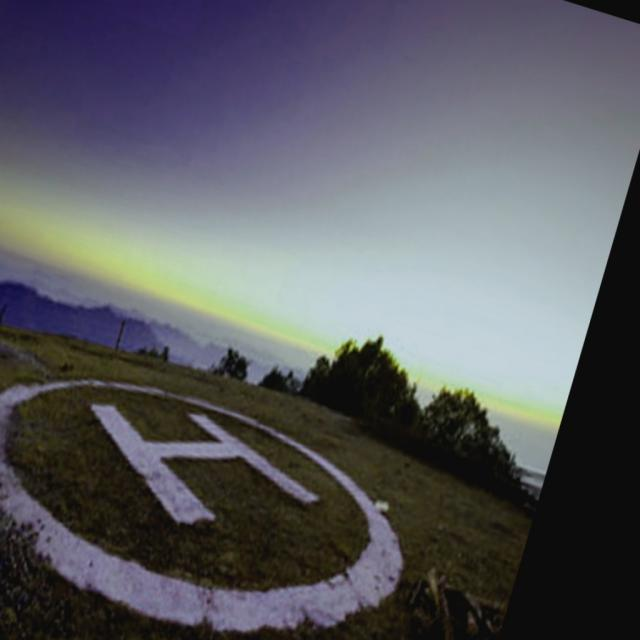helipad: (0, 370, 408, 638)
